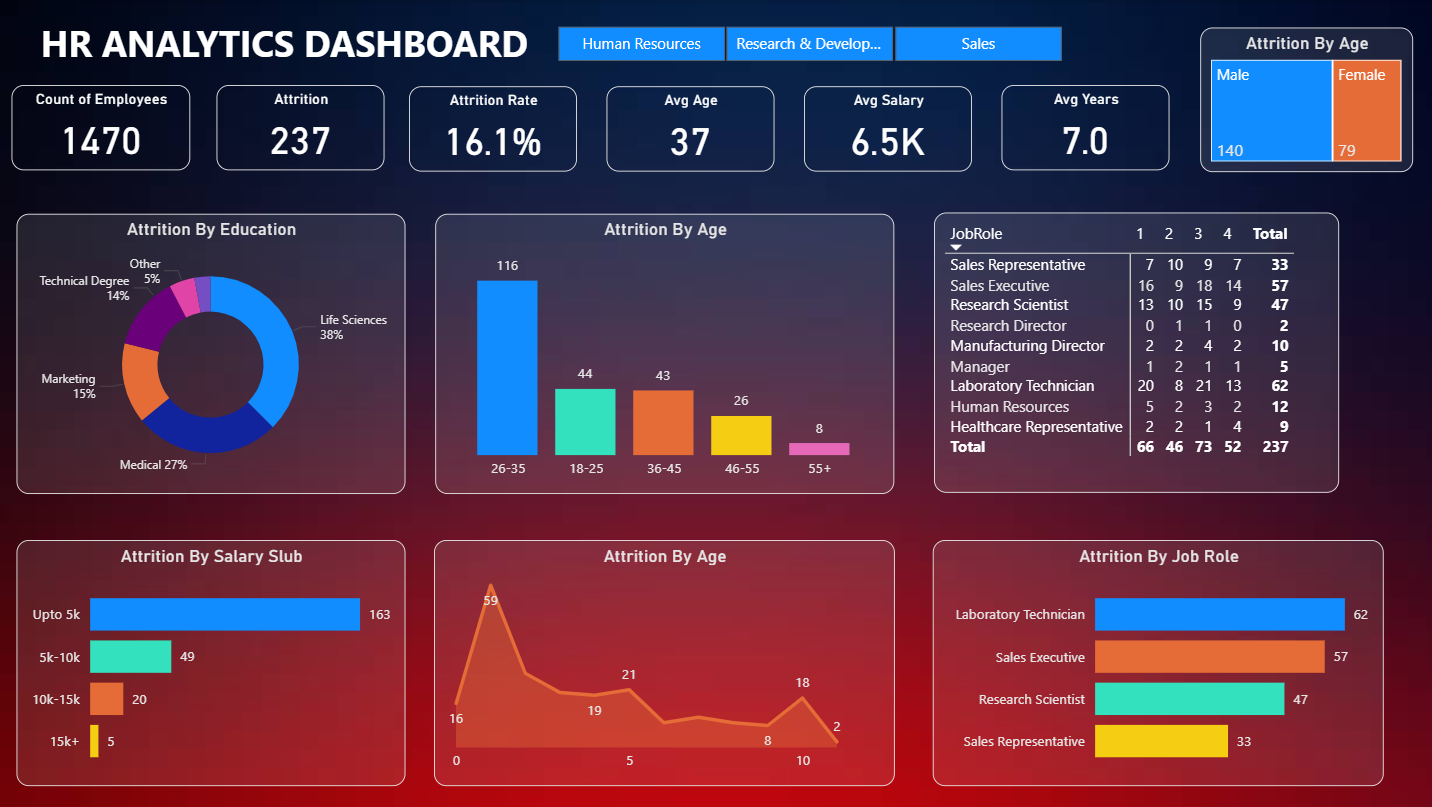

This screenshot's page, from the dashboard's own definition file:
{"tool":"powerbi","page":{"name":"Page 1","canvas":[1280,720],"ordinal":0},"visuals":[{"type":"card","title":"Count of Employees","fields":{"Values":["CountNonNull(HR_Analytics.EmpID)"]},"box":[10.9,76,159.3,76],"z":0},{"type":"card","title":"Attrition","fields":{"Values":["Sum(HR_Analytics.Attrition Count)"]},"box":[194.2,76,149.6,76],"z":1000},{"type":"card","title":"Attrition Rate","fields":{"Values":["HR_Analytics.Attrition Rate"]},"box":[365.6,77.2,149.6,76],"z":2000},{"type":"card","title":"Avg Age","fields":{"Values":["Avg(HR_Analytics.Age)"]},"box":[540.5,77.2,149.6,76],"z":3000},{"type":"card","title":"Avg Salary","fields":{"Values":["Avg(HR_Analytics.MonthlyIncome)"]},"box":[716.6,77.2,149.6,76],"z":4000},{"type":"card","title":"Avg Years","fields":{"Values":["Avg(HR_Analytics.YearsAtCompany)"]},"box":[892.8,76,149.6,76],"z":5000},{"type":"donutChart","title":"Attrition By Education","fields":{"Y":["Sum(HR_Analytics.Attrition Count)"],"Category":["HR_Analytics.EducationField"]},"box":[15.7,190.6,346.2,249.7],"z":6000},{"type":"columnChart","title":"Attrition By Age","fields":{"Category":["HR_Analytics.AgeGroup"],"Y":["Sum(HR_Analytics.Attrition Count)"]},"box":[388.5,190.6,409,249.7],"z":6001},{"type":"pivotTable","fields":{"Rows":["HR_Analytics.JobRole"],"Columns":["HR_Analytics.JobSatisfaction"],"Values":["Sum(HR_Analytics.Attrition Count)"]},"box":[832.4,189.4,360.7,249.7],"z":6002},{"type":"barChart","title":"Attrition By Salary Slub","fields":{"Category":["HR_Analytics.SalarySlab"],"Y":["Sum(HR_Analytics.Attrition Count)"]},"box":[15.7,481.4,346.2,219.6],"z":6003},{"type":"barChart","title":"Attrition By Job Role","fields":{"Y":["Sum(HR_Analytics.Attrition Count)"],"Category":["HR_Analytics.JobRole"]},"box":[831.2,481.4,401.7,219.6],"z":6004},{"type":"areaChart","title":"Attrition By Age","fields":{"Y":["Sum(HR_Analytics.Attrition Count)"],"Category":["HR_Analytics.YearsAtCompany"]},"box":[387.3,481.4,410.2,219.6],"z":6005},{"type":"treemap","title":"Attrition By Age","fields":{"Group":["HR_Analytics.Gender"],"Values":["Sum(HR_Analytics.Attrition Count)"]},"box":[1070.1,24.1,189.4,129.1],"z":6007},{"type":"slicer","fields":{"Values":["HR_Analytics.Department"]},"box":[471.7,16.9,498.3,44.6],"z":6008},{"type":"textbox","box":[32.6,10.9,463.3,53.1],"z":6009}]}

Visuals, with their boxes in screenshot pixels (x1, y1, x2, y2), scaled from the page's 1280x720 canvas onto the 1432x807 screenshot:
"Count of Employees" card: box=[12, 85, 190, 170]
"Attrition" card: box=[217, 85, 385, 170]
"Attrition Rate" card: box=[409, 87, 576, 172]
"Avg Age" card: box=[605, 87, 772, 172]
"Avg Salary" card: box=[802, 87, 969, 172]
"Avg Years" card: box=[999, 85, 1166, 170]
"Attrition By Education" donutChart: box=[18, 214, 405, 494]
"Attrition By Age" columnChart: box=[435, 214, 892, 494]
pivotTable - HR_Analytics.JobRole x HR_Analytics.JobSatisfaction: box=[931, 212, 1335, 492]
"Attrition By Salary Slub" barChart: box=[18, 540, 405, 786]
"Attrition By Job Role" barChart: box=[930, 540, 1379, 786]
"Attrition By Age" areaChart: box=[433, 540, 892, 786]
"Attrition By Age" treemap: box=[1197, 27, 1409, 172]
slicer - HR_Analytics.Department: box=[528, 19, 1085, 69]
textbox: box=[36, 12, 555, 72]
